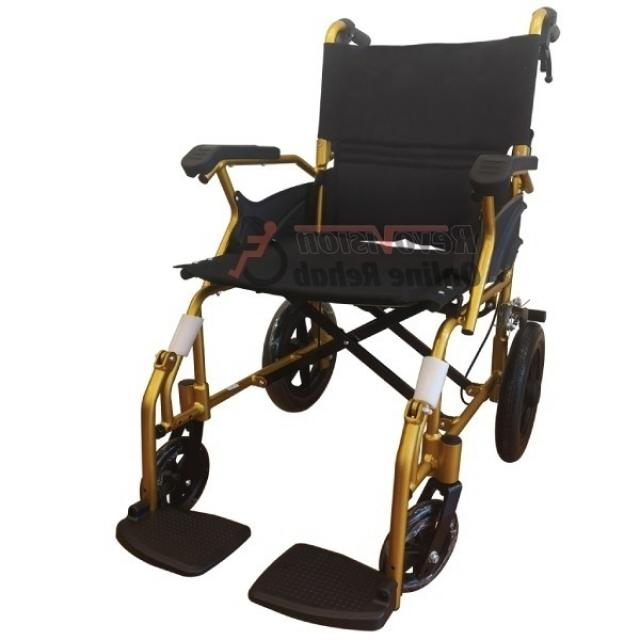wheelchair: (104, 0, 572, 637)
